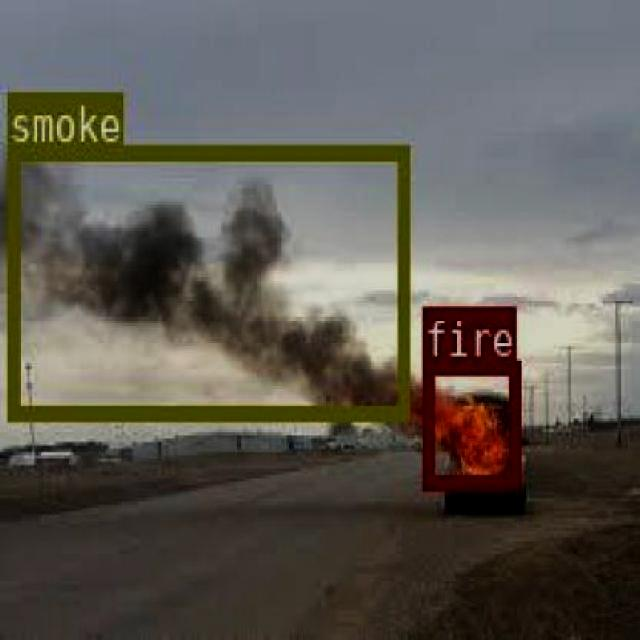fire: (421, 358, 517, 486)
smoke: (5, 144, 408, 416)
